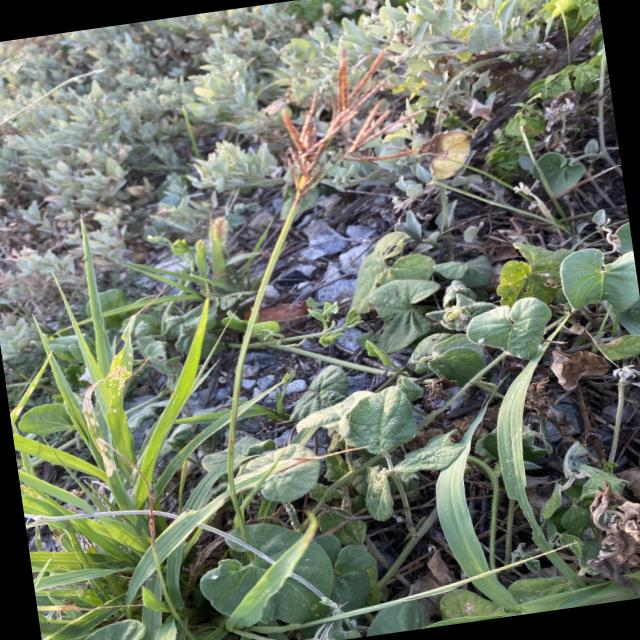cyperus: (256, 29, 444, 208)
